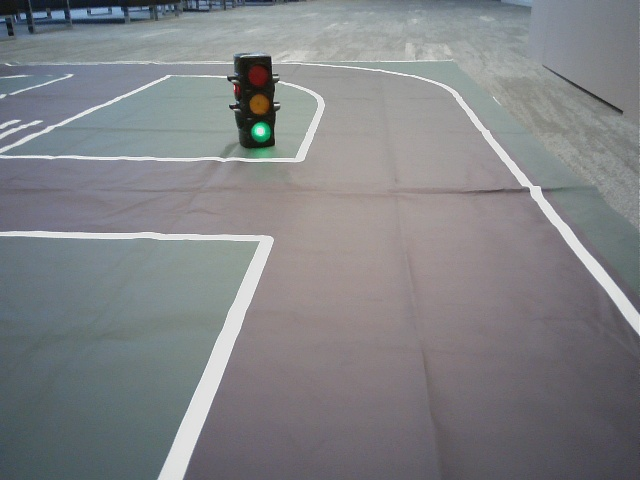green: (243, 58, 276, 143)
